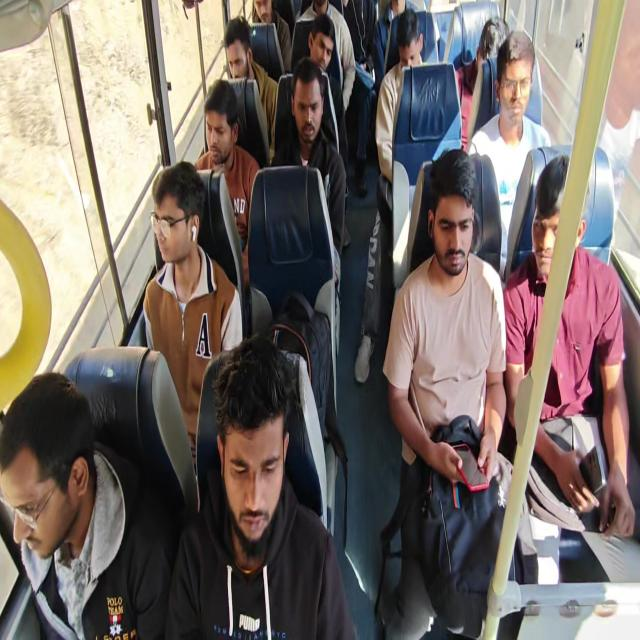person: (378, 148, 514, 638), (164, 334, 356, 638), (503, 153, 635, 540), (0, 370, 174, 639), (142, 160, 243, 476), (354, 8, 424, 384), (468, 29, 552, 279), (270, 57, 347, 257), (193, 78, 261, 286), (375, 8, 424, 184), (338, 0, 377, 196), (223, 16, 278, 152), (454, 16, 508, 150), (295, 0, 356, 114), (372, 0, 407, 92), (250, 0, 292, 74)
